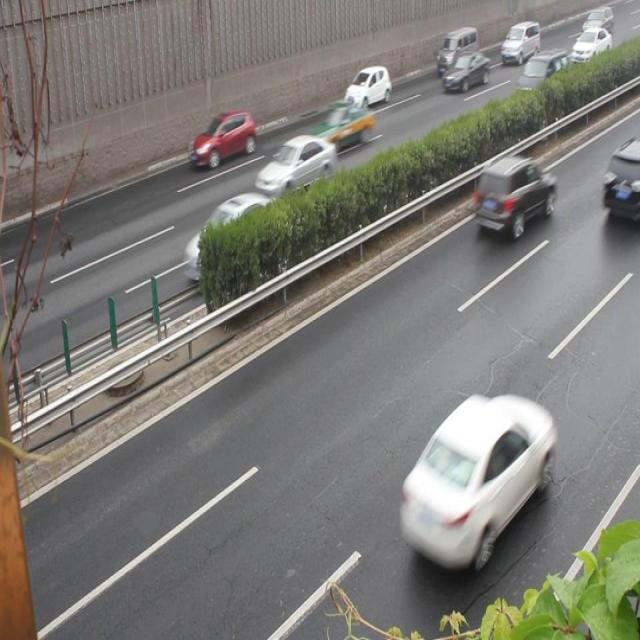car: (397, 395, 549, 565), (184, 192, 281, 279), (473, 154, 554, 238), (252, 134, 336, 206), (190, 110, 255, 167), (305, 104, 372, 154), (602, 140, 640, 224), (344, 64, 390, 110), (441, 50, 488, 94)
truck: (514, 49, 569, 103), (436, 27, 478, 75), (499, 21, 540, 66)
